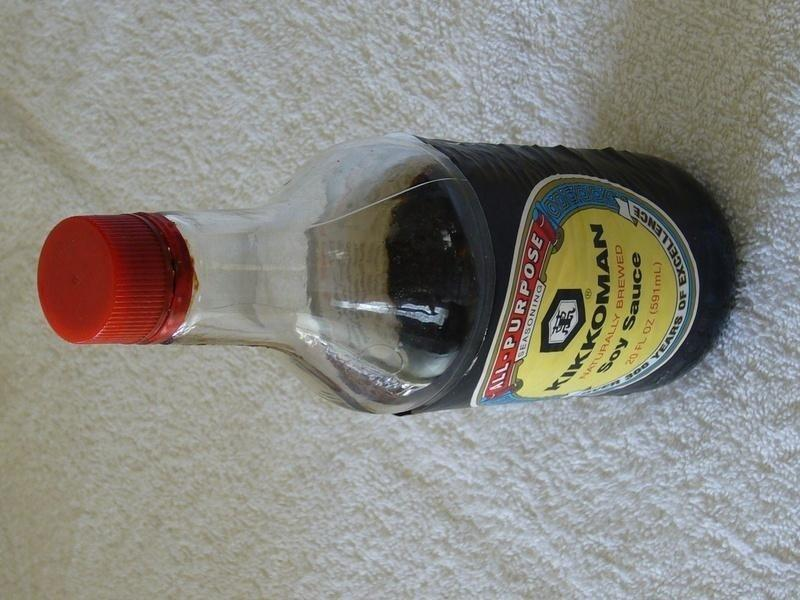bottle-glass: (31, 131, 748, 421)
